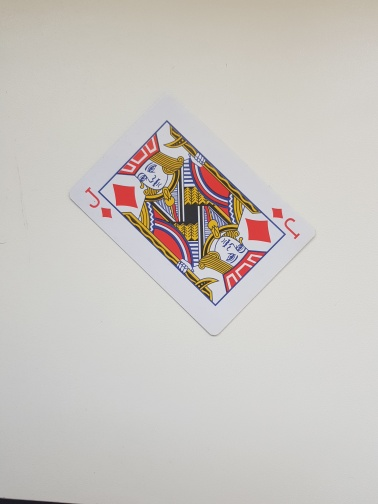jack: (67, 92, 318, 338)
